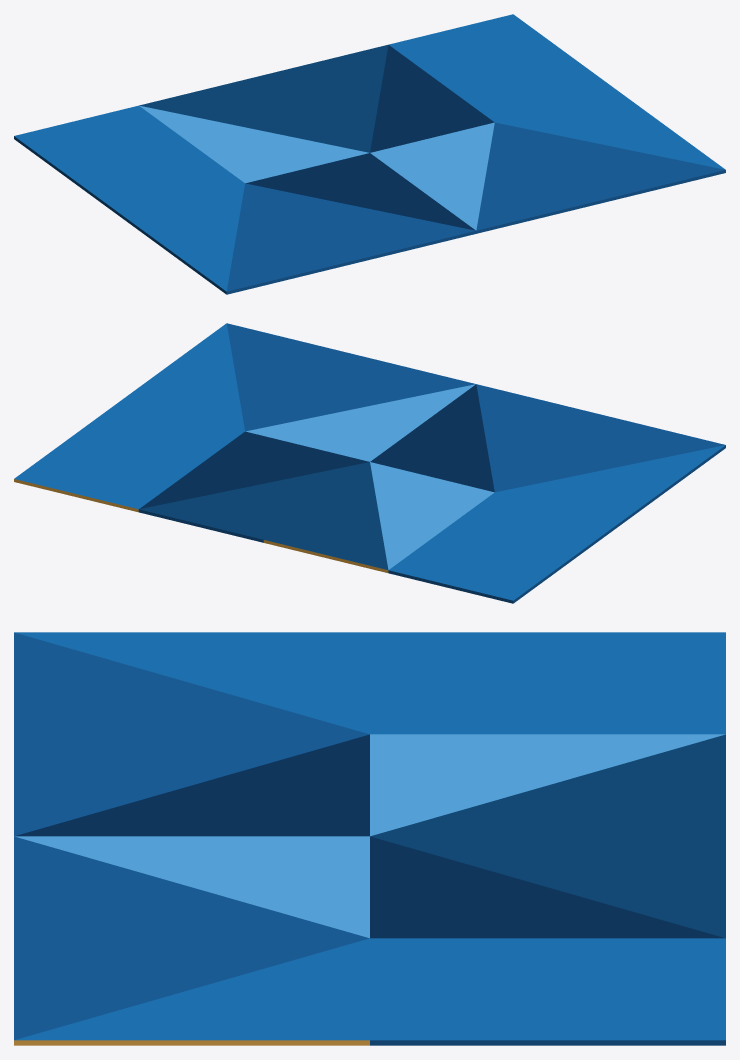
The model's file is Accesories_Carpet.017.glb.
The picture shows the model from 3 angles, top to bottom: view 1: azimuth 30°, elevation 25°; view 2: azimuth 150°, elevation 25°; view 3: azimuth 270°, elevation 25°; orthographic projection. The views are drawn at different scales.
Parts seen in each view (by area): view 1: Accesories_Carpet.017; view 2: Accesories_Carpet.017; view 3: Accesories_Carpet.017.
Part boxes in pixels (box(x1,y1,x2,y2)): Accesories_Carpet.017: box(14, 14, 725, 294); Accesories_Carpet.017: box(14, 323, 725, 603); Accesories_Carpet.017: box(14, 632, 725, 1045).
Size of the model in its own units: 1.45 by 0.0086 by 1.07.
1 material, 1 textured.
